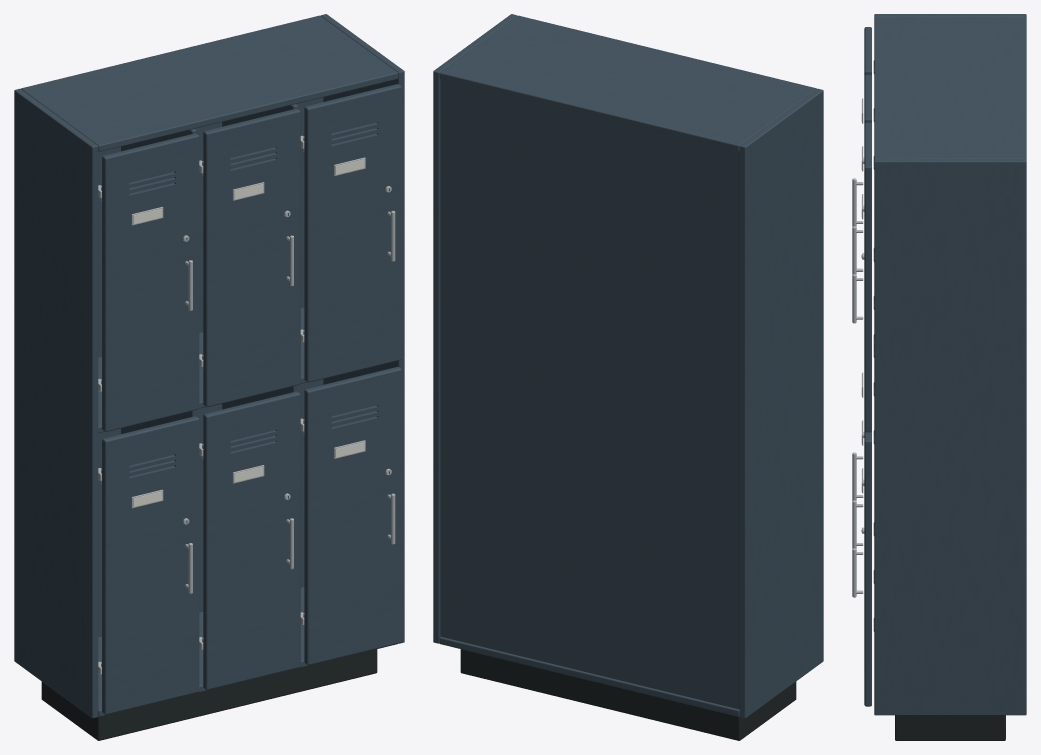
Rendered from locker_bank.glb.
The picture shows the model from 3 angles, left to right: view 1: azimuth 30°, elevation 25°; view 2: azimuth 150°, elevation 25°; view 3: azimuth 270°, elevation 25°; orthographic projection. The views are drawn at different scales.
Parts seen in each view (by area): view 1: Case | side, Locker 2-1 | folded door, Locker 0-1 | folded door, Locker 1-0 | folded door, Locker 1-1 | folded door, Locker 2-0 | folded door, Locker 0-0 | folded door, Case | horizontal panel.001, Recessed structural plinth, Case | inset back, Case | side.001, Case | horizontal panel (+3 smaller); view 2: Case | inset back, Case | side, Case | horizontal panel.001, Recessed structural plinth, Case | side.001, Case | horizontal panel; view 3: Case | side.001, Case | horizontal panel.001, Recessed structural plinth, Locker 2-1 | folded door, Locker 2-0 | folded door, Case | side, Locker 0-1 | folded door, Locker 1-1 | folded door.
Boxes of the visible parts, bbox=[...] form: Case | side: bbox=[14, 88, 98, 718]; Locker 2-1 | folded door: bbox=[304, 84, 401, 382]; Locker 0-1 | folded door: bbox=[102, 133, 199, 431]; Locker 1-0 | folded door: bbox=[203, 391, 300, 689]; Locker 1-1 | folded door: bbox=[203, 108, 300, 407]; Locker 2-0 | folded door: bbox=[304, 366, 401, 665]; Locker 0-0 | folded door: bbox=[102, 416, 199, 714]; Case | horizontal panel.001: bbox=[21, 15, 398, 151]; Recessed structural plinth: bbox=[41, 649, 377, 740]; Case | inset back: bbox=[98, 97, 323, 636]; Case | side.001: bbox=[320, 14, 404, 643]; Case | horizontal panel: bbox=[98, 587, 397, 716]; Case | inset back: bbox=[440, 79, 739, 709]; Case | side: bbox=[739, 88, 823, 718]; Case | horizontal panel.001: bbox=[439, 15, 816, 151]; Recessed structural plinth: bbox=[460, 649, 796, 740]; Case | side.001: bbox=[433, 14, 517, 643]; Case | horizontal panel: bbox=[439, 637, 739, 716]; Case | side.001: bbox=[874, 159, 1026, 715]; Case | horizontal panel.001: bbox=[874, 17, 1026, 159]; Recessed structural plinth: bbox=[895, 715, 1005, 740]; Locker 2-1 | folded door: bbox=[864, 122, 871, 432]; Locker 2-0 | folded door: bbox=[864, 431, 871, 706]; Case | side: bbox=[874, 14, 1026, 17]; Locker 0-1 | folded door: bbox=[864, 27, 871, 76]; Locker 1-1 | folded door: bbox=[864, 75, 871, 123].
Bounding box in the file's own units: 1.01 × 1.88 × 0.5045.
5 materials, 1 textured.
